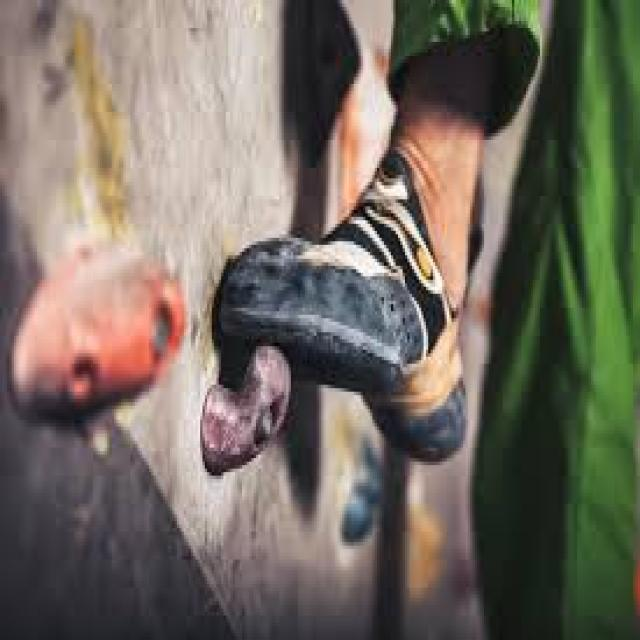climbing-shoes: (213, 175, 470, 465)
